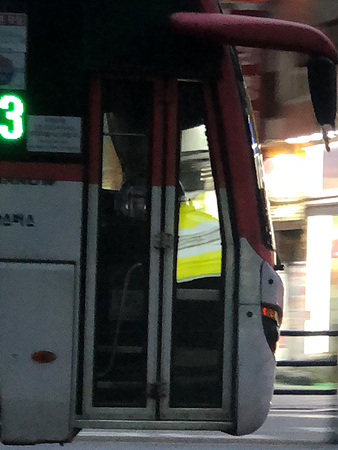entrance: (88, 11, 238, 421)
